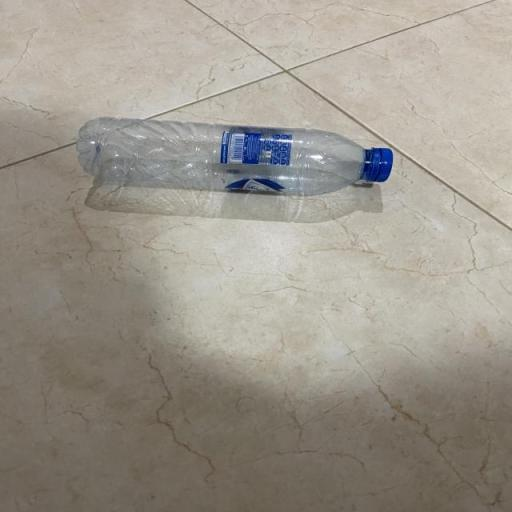plastic: (66, 113, 412, 205)
